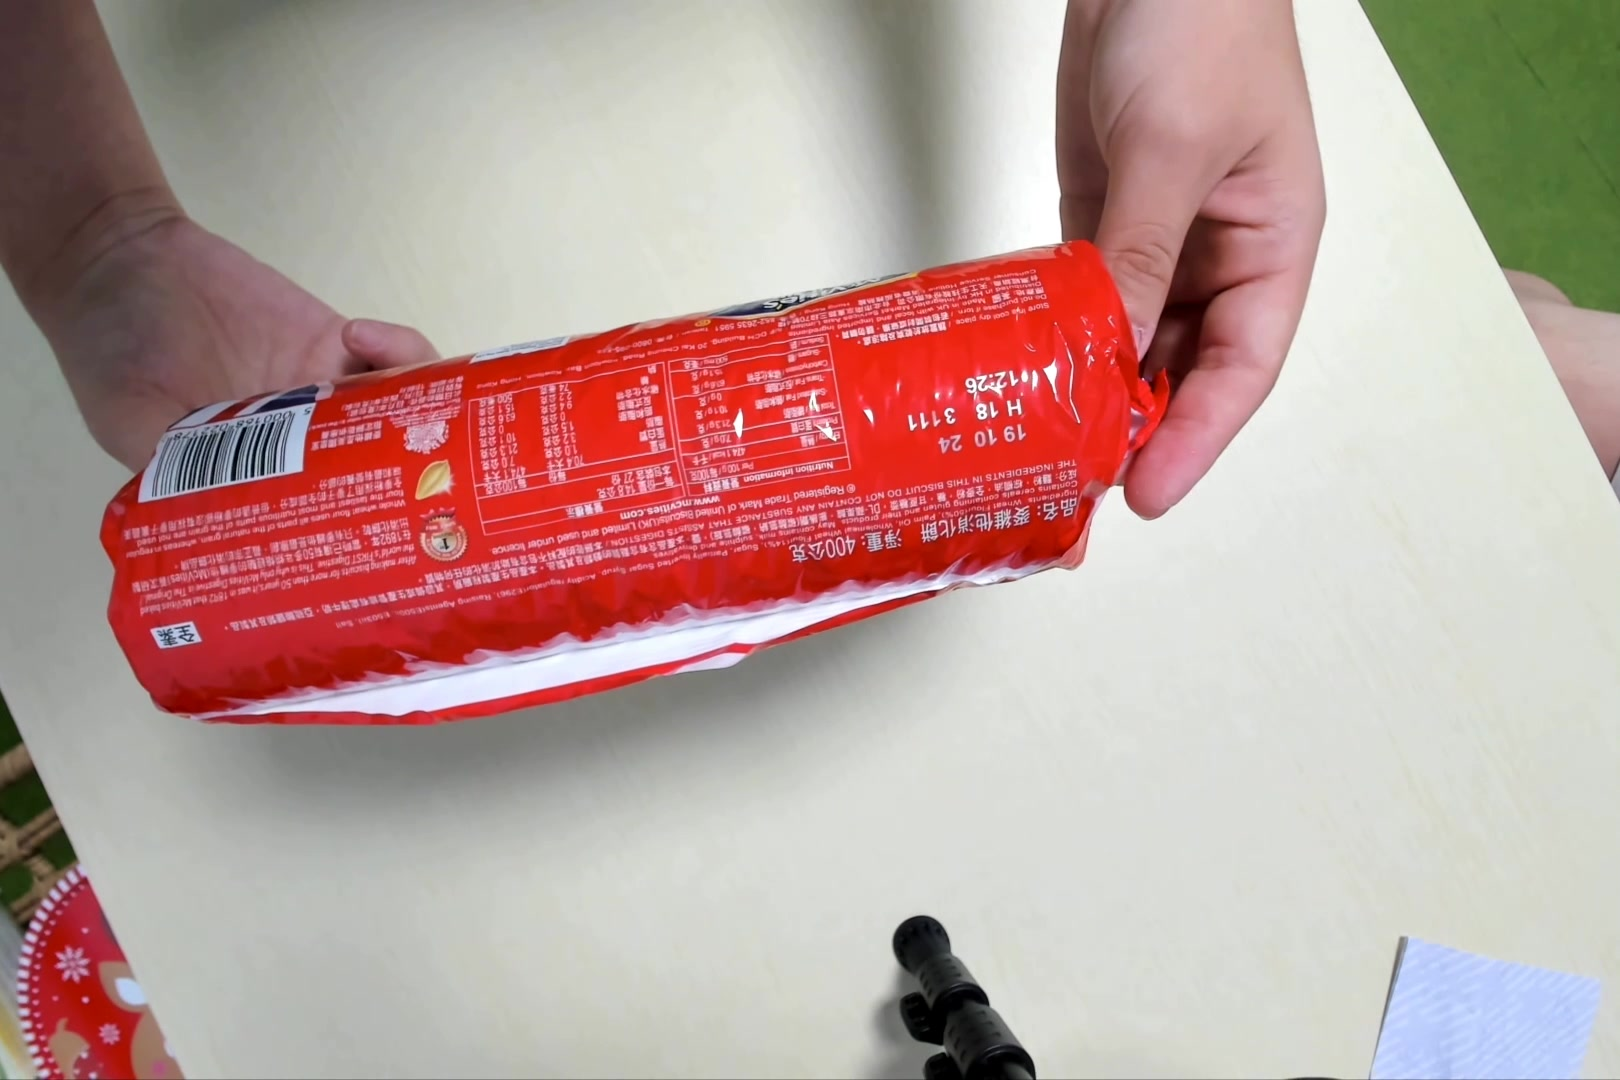BiscuitsCrackersCookies_400-499g_NonHalal_NonHealthy: (106, 239, 1160, 734)
